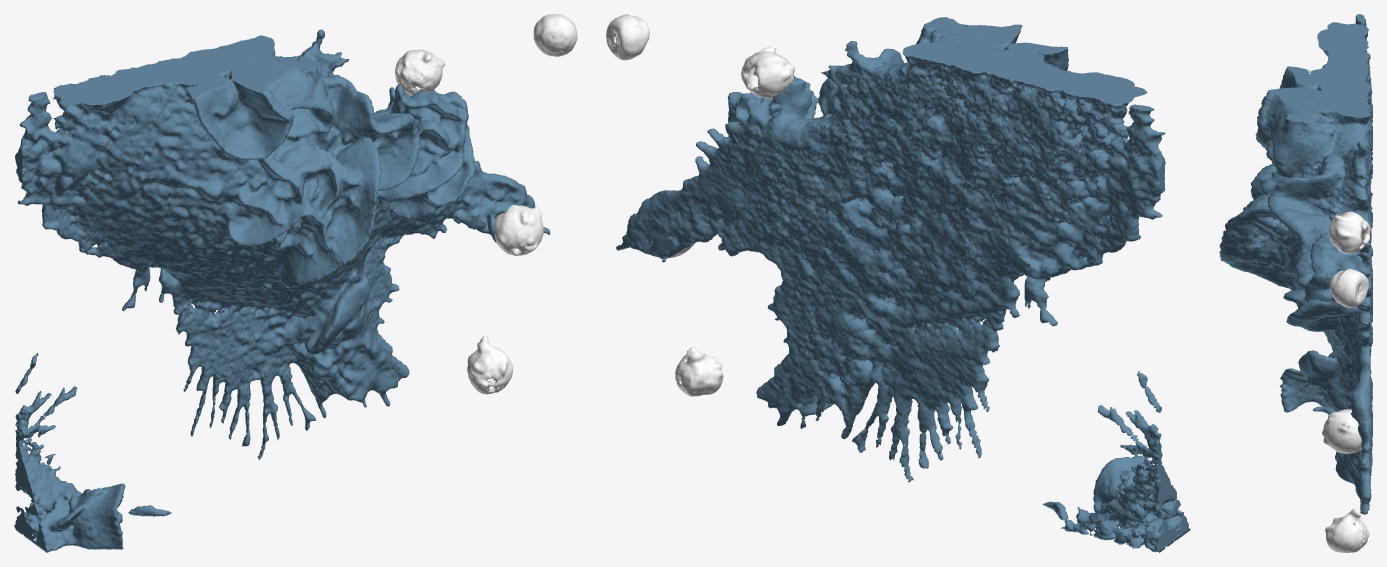
3 views of the same model, side by side, from view 1: azimuth 30°, elevation 25°; view 2: azimuth 150°, elevation 25°; view 3: azimuth 270°, elevation 25° (orthographic). The views are drawn at different scales.
Visible parts, largest first — view 1: surface (×2); view 2: surface (×2); view 3: surface (×2).
Part boxes in pixels (bbox=[...]): surface (×2): bbox=[14, 14, 577, 552]; surface (×2): bbox=[606, 14, 1190, 552]; surface (×2): bbox=[1219, 14, 1372, 552].
Bounding box in the file's own units: 582 × 436 × 161.
